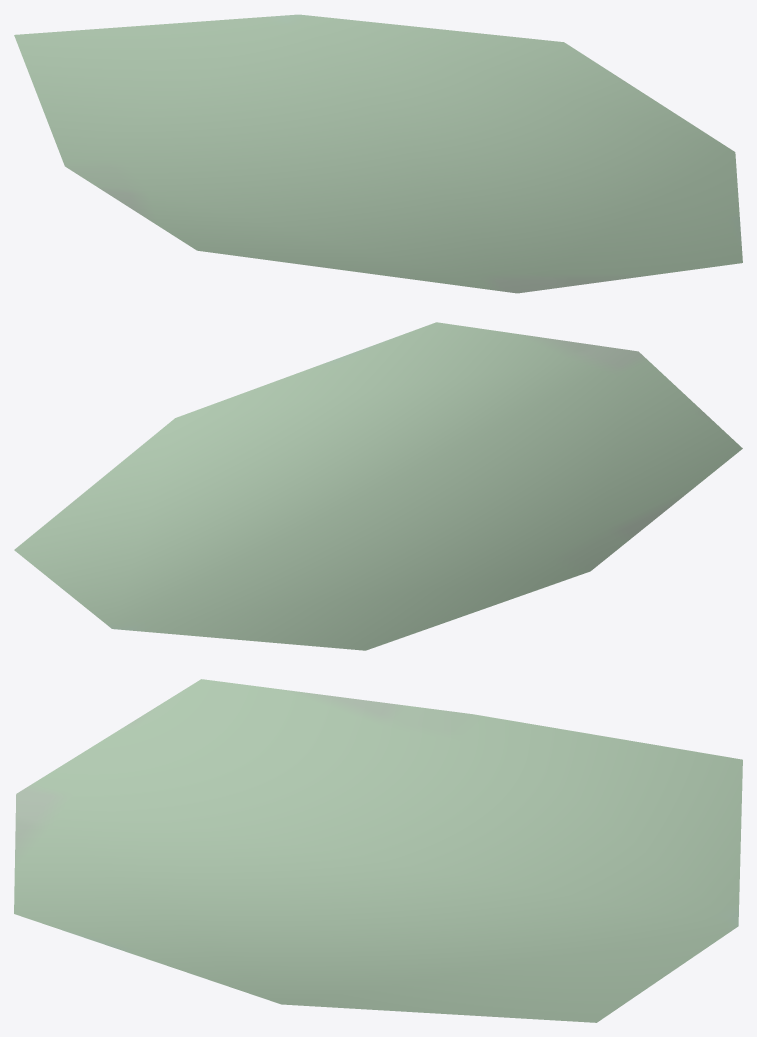
The model's file is TROLLHOLE02_HOLECAP97.fbx.
3 renders of one model, top to bottom at view 1: azimuth 30°, elevation 25°; view 2: azimuth 150°, elevation 25°; view 3: azimuth 270°, elevation 25°, orthographic. The views are drawn at different scales.
Parts seen in each view (by area): view 1: TROLLHOLE02_HOLECAP97; view 2: TROLLHOLE02_HOLECAP97; view 3: TROLLHOLE02_HOLECAP97.
Part boxes in pixels (x1,y1,x2,y2): TROLLHOLE02_HOLECAP97: (14,14,742,293); TROLLHOLE02_HOLECAP97: (14,322,742,650); TROLLHOLE02_HOLECAP97: (14,679,742,1022).
Bounding box in the file's own units: 18092 × 2795 × 21582.
Materials: 1 (1 with a texture image).
